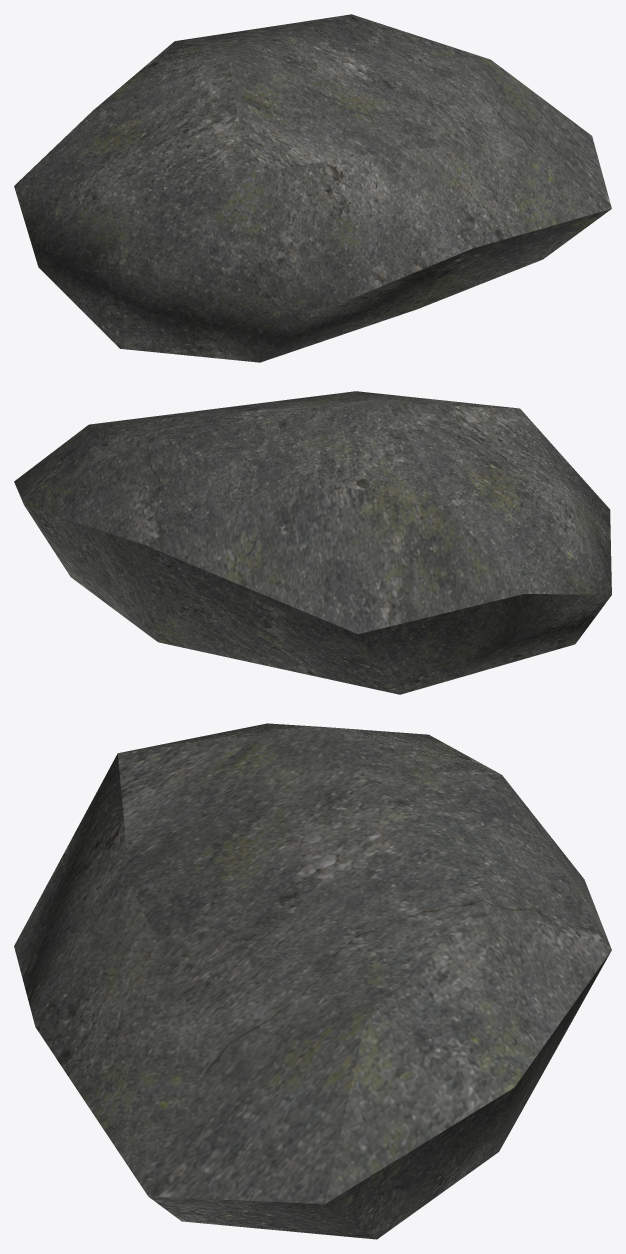
Rendered from roadside_stone.glb.
The picture shows the model from 3 angles, top to bottom: view 1: azimuth 30°, elevation 25°; view 2: azimuth 150°, elevation 25°; view 3: azimuth 270°, elevation 25°; orthographic projection. The views are drawn at different scales.
Parts seen in each view (by area): view 1: Roadside_Stone; view 2: Roadside_Stone; view 3: Roadside_Stone.
Part boxes in pixels (bbox=[...]): Roadside_Stone: bbox=[14, 14, 611, 362]; Roadside_Stone: bbox=[14, 391, 611, 694]; Roadside_Stone: bbox=[14, 723, 611, 1239].
Size of the model in its own units: 0.3 by 0.114 by 0.196.
Materials: 1 (1 with a texture image).
